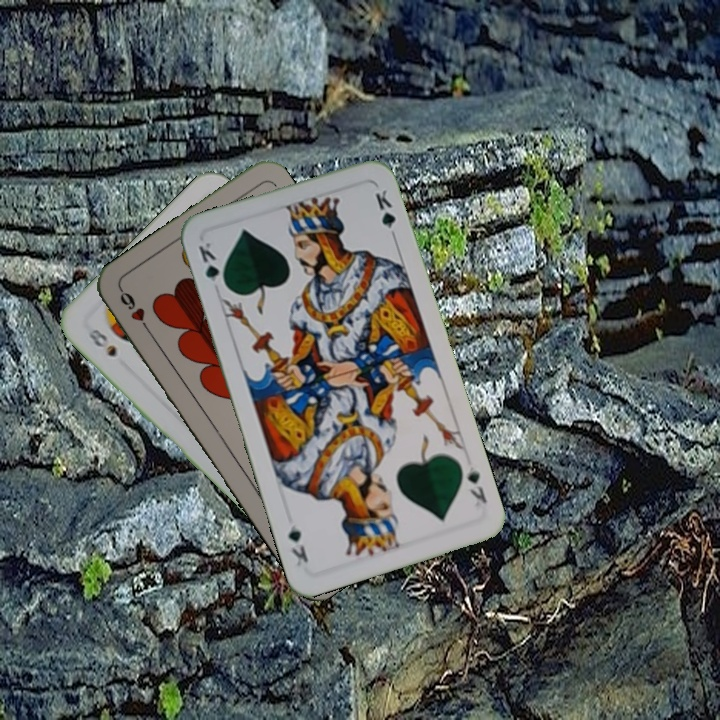GK: (194, 238, 230, 292), (463, 462, 490, 509)
H9: (115, 285, 154, 337)
S8: (81, 323, 119, 359)
